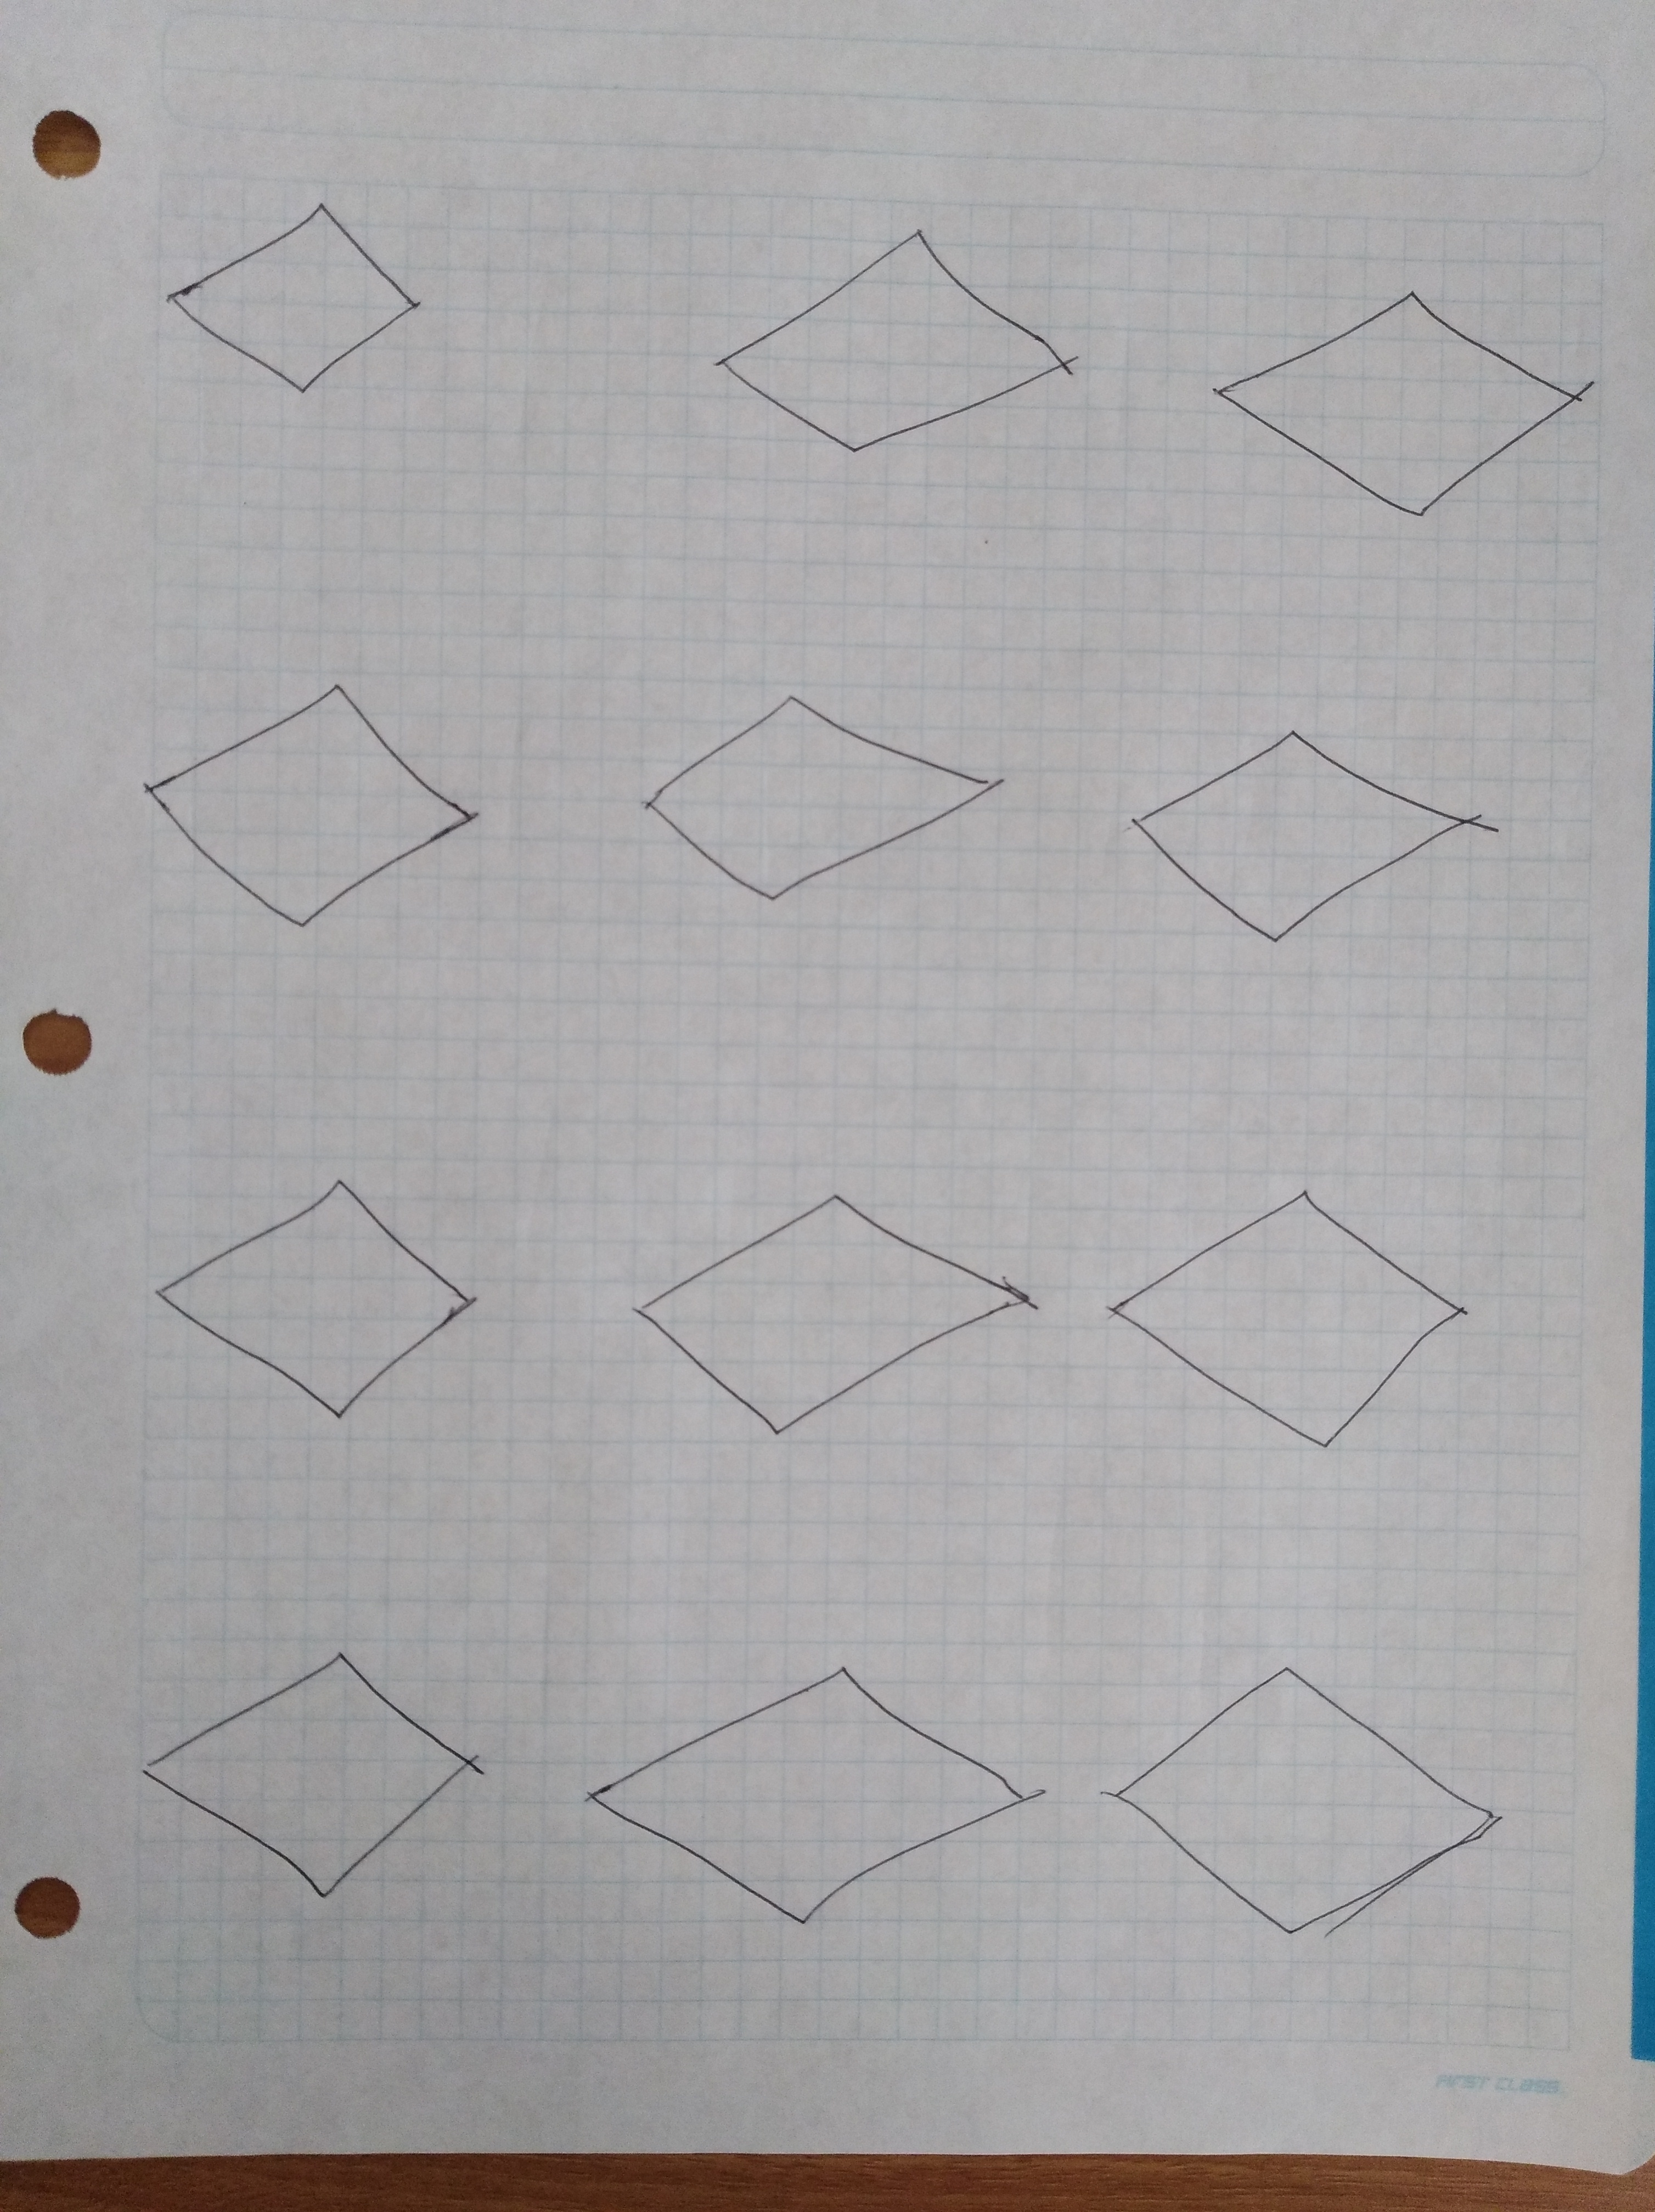decision: (553, 1619, 1060, 1953), (614, 1142, 1060, 1465), (1085, 1623, 1509, 1960), (1193, 233, 1610, 554), (1092, 1156, 1488, 1472), (1095, 693, 1526, 971), (136, 1135, 515, 1447), (122, 1625, 509, 1927), (699, 193, 1097, 476), (621, 653, 1020, 931), (127, 662, 511, 950), (148, 169, 454, 415)
